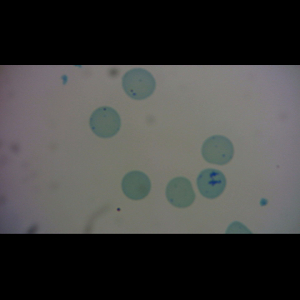aggregate reticulocyte: (196, 168, 228, 200)
erythrocyte: (120, 170, 152, 201)
punctate reticulocyte: (121, 67, 157, 101), (200, 134, 236, 167), (88, 106, 122, 140), (164, 175, 198, 209)
